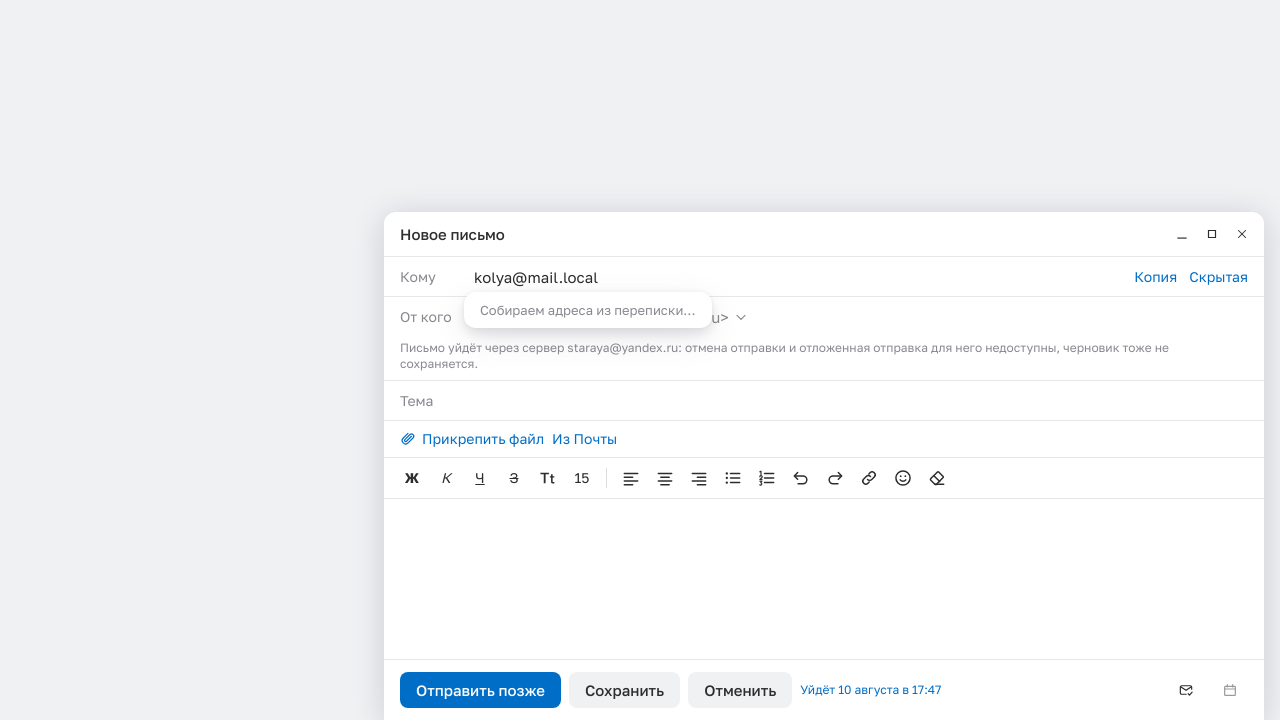
it: отложенная отправка с чужого адреса › время, попавшее в письмо иным путём, не превращается в отправку сейчас
This screenshot has width=1280, height=720.
Click the button "Отправить позже" at (480, 690), box [400, 672, 561, 708]
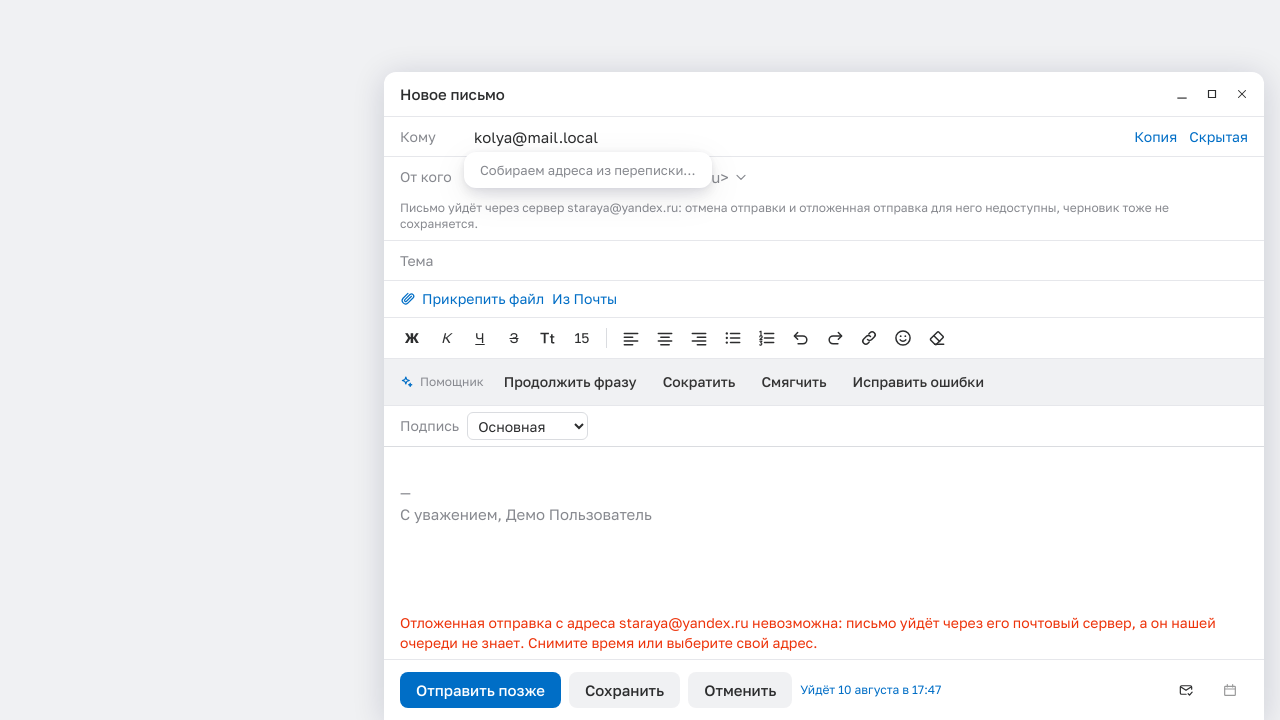
Expected: the text "Отложенная отправка с адреса staraya@yandex.ru" is shown, [400, 614, 1216, 651]
